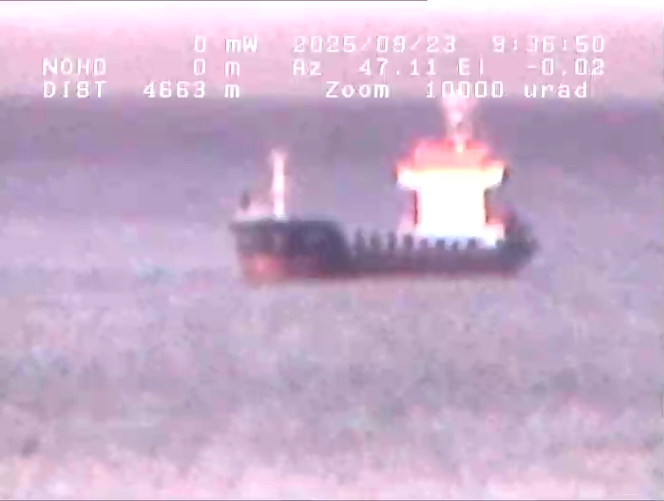TANKER: (213, 83, 565, 283)
